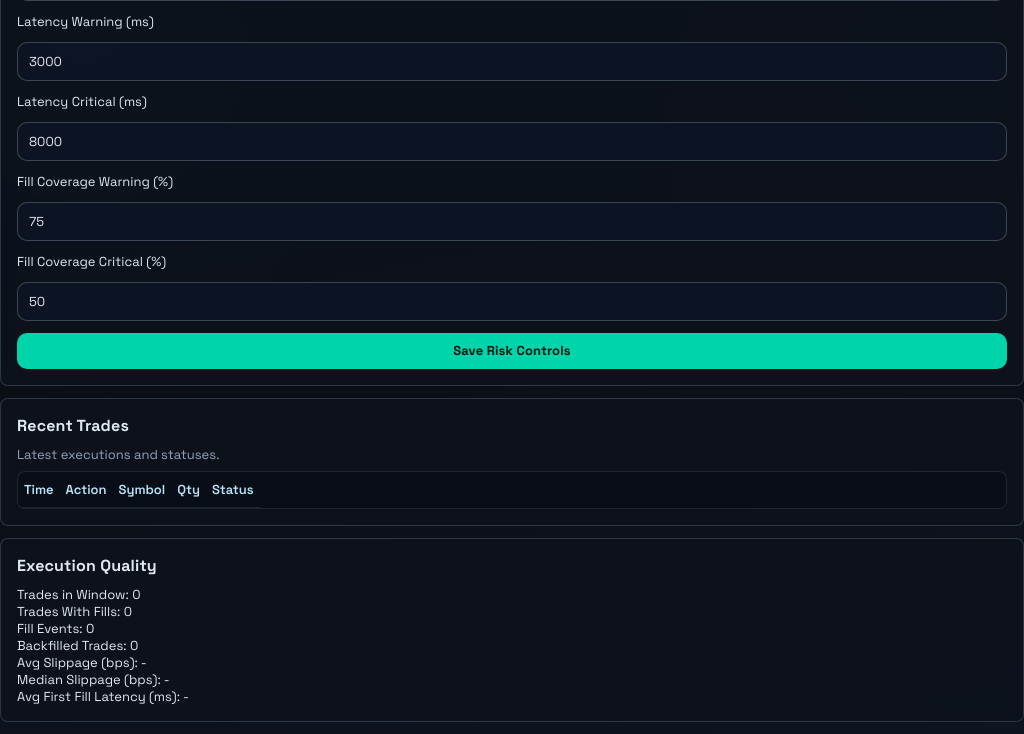
DashboardPage Risk Controls › renders API error when save fails
(page scrolled)
Click the button "Save Risk Controls".
click(512, 350)  # box top-left (17, 332), bottom-right (1007, 368)
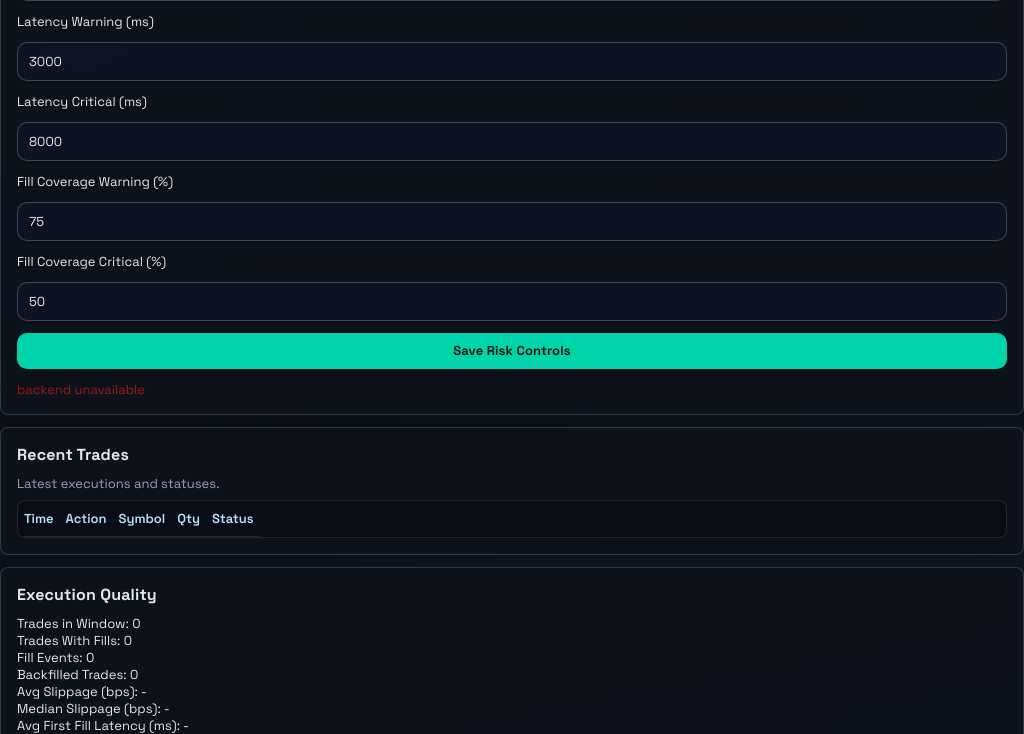
Expected: the text "backend unavailable" is shown, top-left (17, 380), bottom-right (145, 398)
